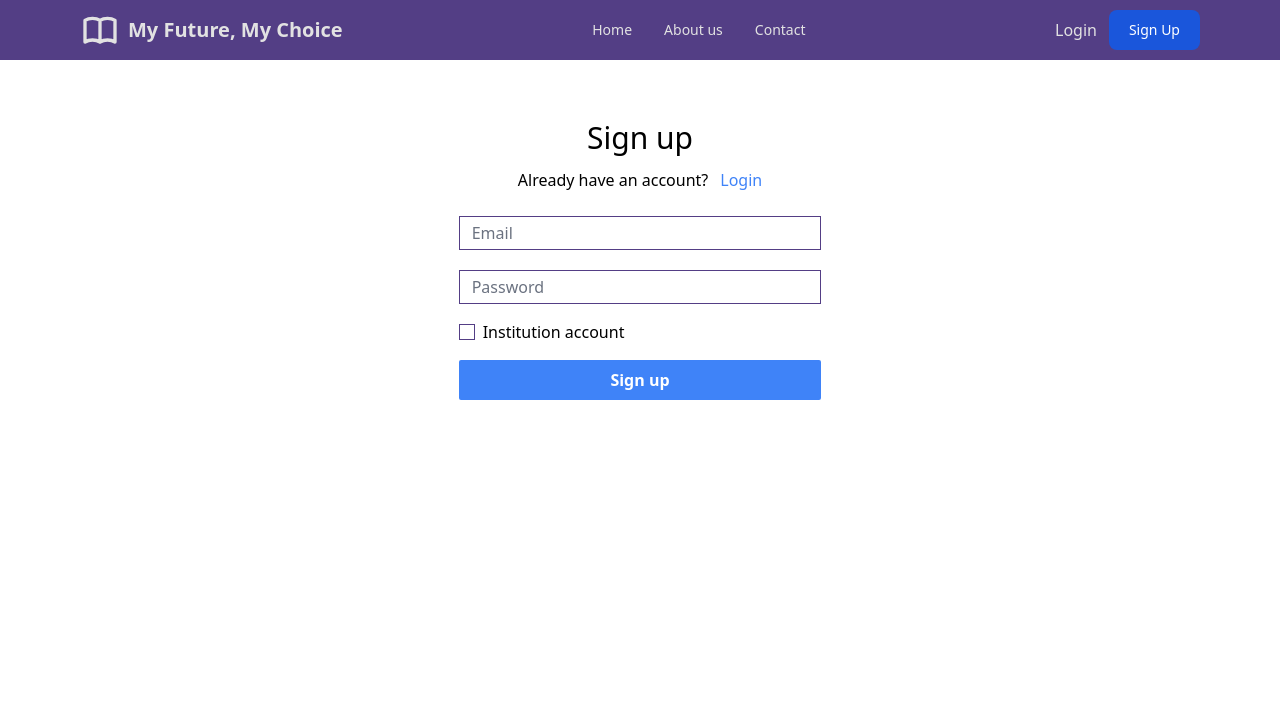
Test: Testing login and signup page › should show more inputs fields when institution account is check
Step 1. Click the checkbox with test id "institution-checkbox" → coordinates (467, 332), box [459,324,475,340]
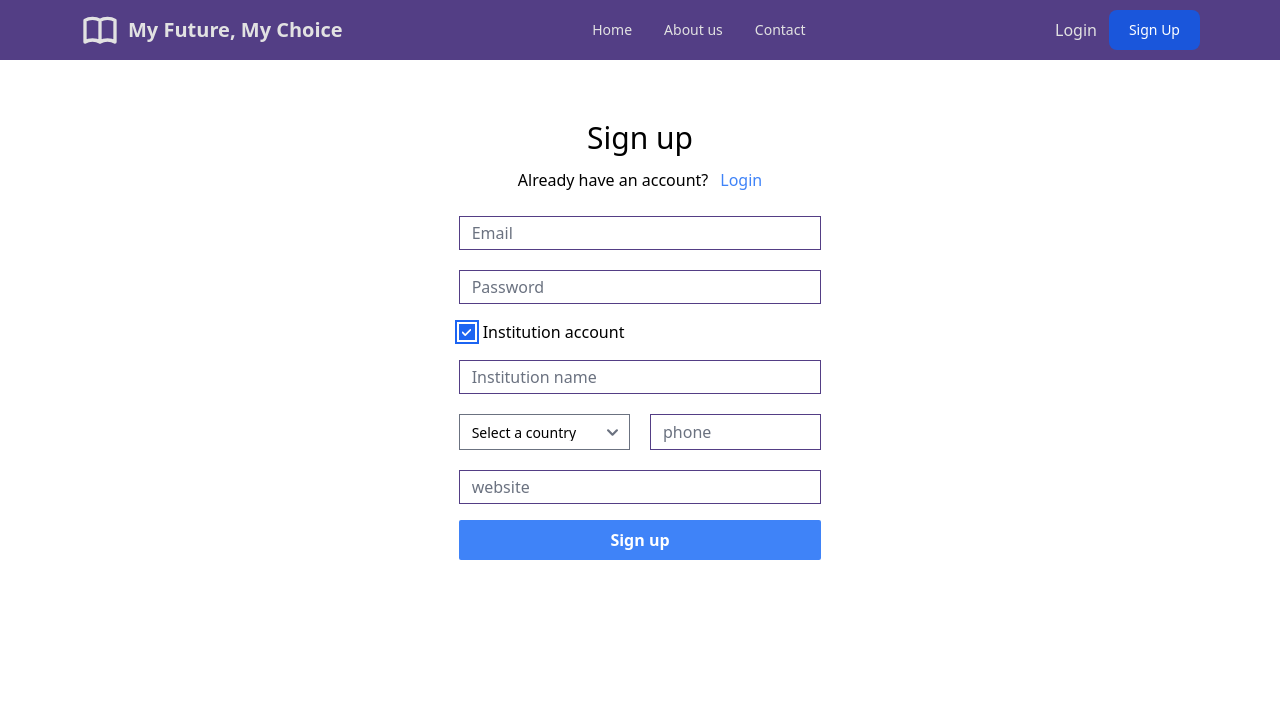
Check: the field with test id "institution-name" is shown, box [459,360,822,394]
Check: the dropdown with test id "institution-country" is shown, box [459,414,630,450]
Check: the field with test id "institution-phone" is shown, box [650,414,821,450]
